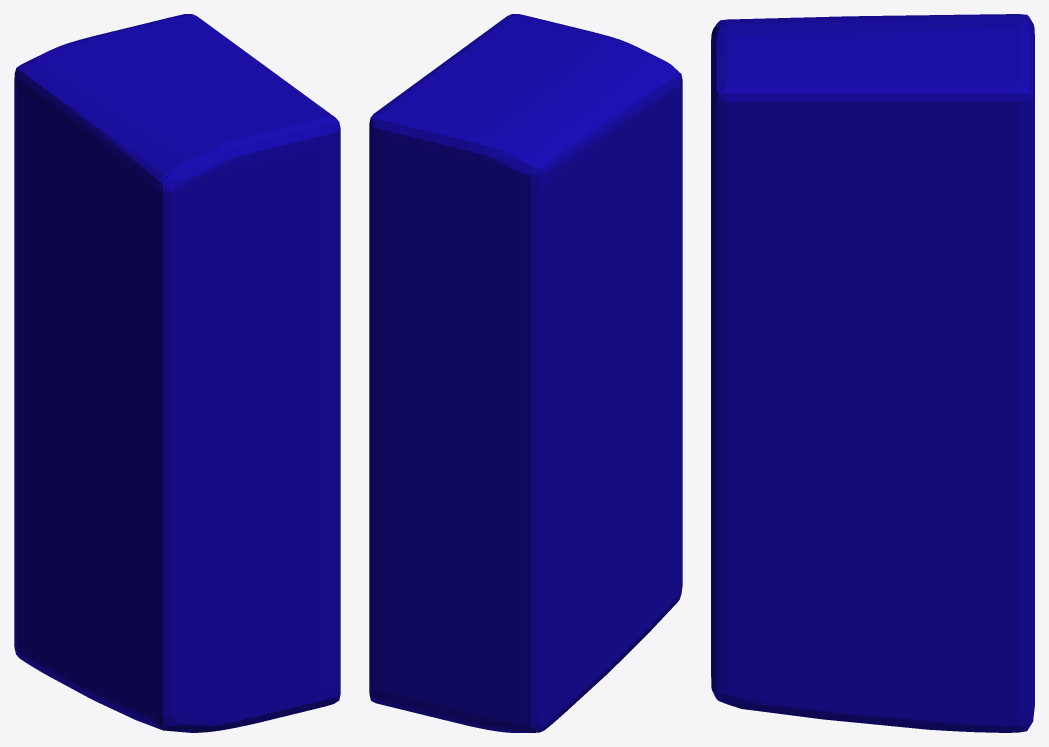
The model's file is right_th_distal_pst_part_5.obj.
The picture shows the model from 3 angles, left to right: view 1: azimuth 30°, elevation 25°; view 2: azimuth 150°, elevation 25°; view 3: azimuth 270°, elevation 25°; orthographic projection. The views are drawn at different scales.
Size of the model in its own units: 5.62 by 18.15 by 8.24.
